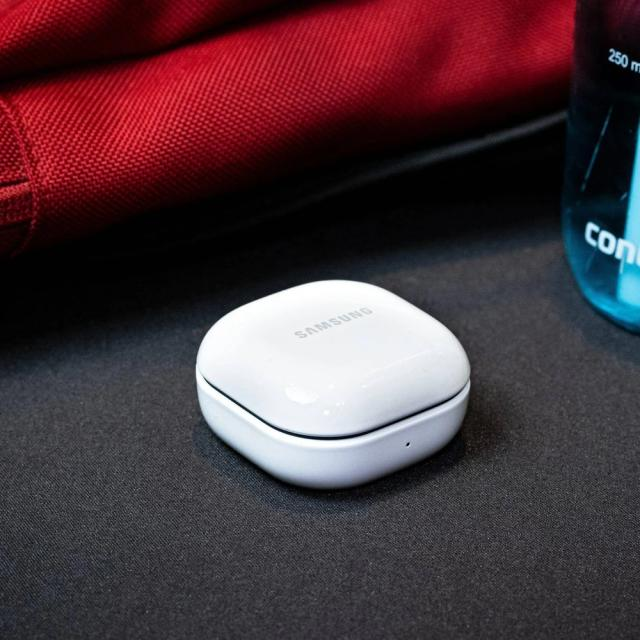headphones: (196, 280, 470, 488)
